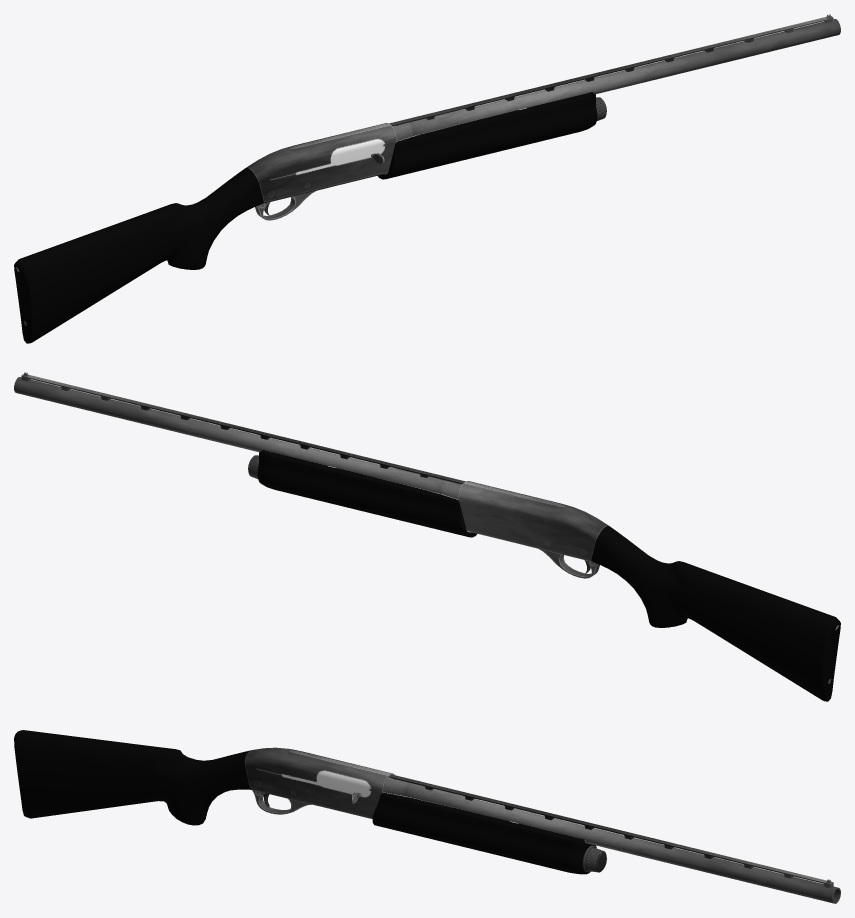
File: дробовик 2.fbx
The picture shows the model from 3 angles, top to bottom: view 1: azimuth 30°, elevation 25°; view 2: azimuth 150°, elevation 25°; view 3: azimuth 330°, elevation 25°; orthographic projection.
Visible parts, largest first — view 1: remington; view 2: remington; view 3: remington.
Boxes of the visible parts, x1,y1,x2,y2 form: remington: (14,14,840,343); remington: (14,372,840,701); remington: (14,730,840,903).
Size of the model in its own units: 123 by 19.24 by 6.74.
